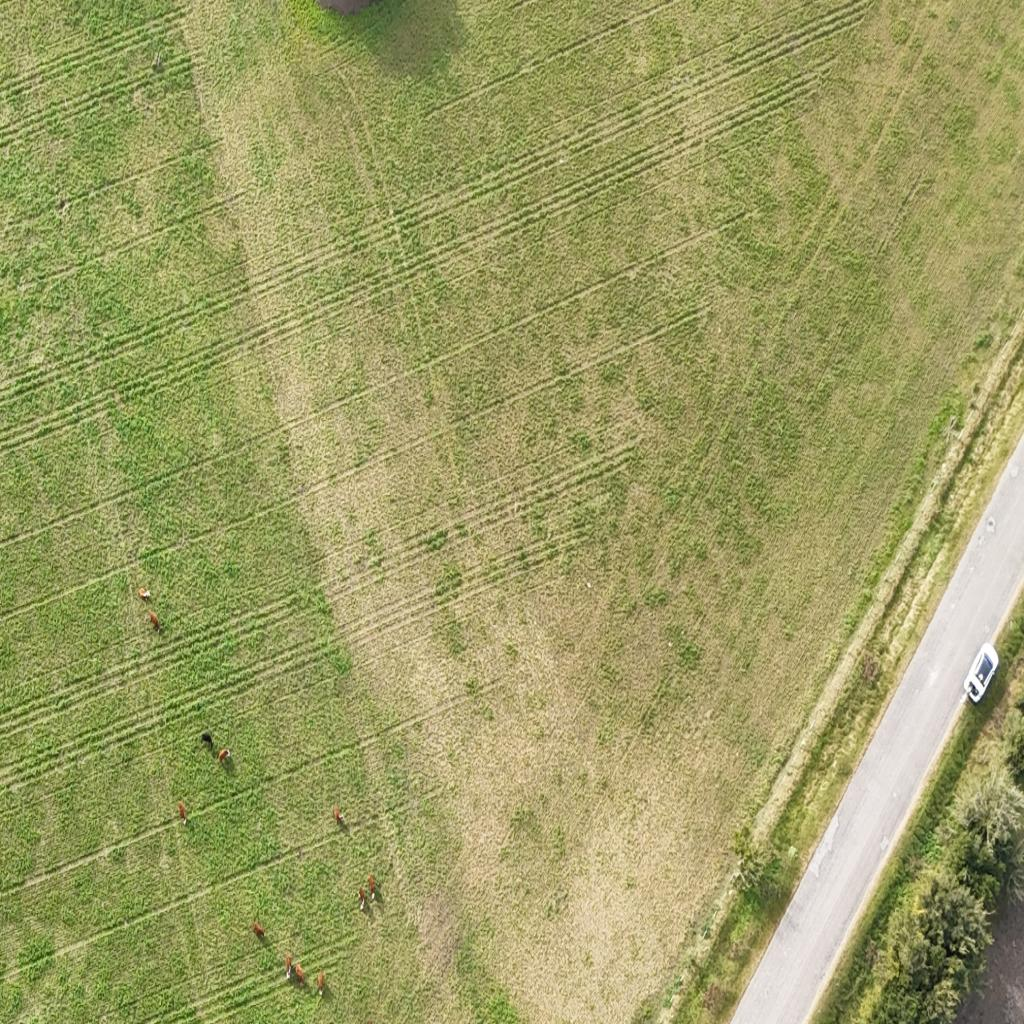cow: (252, 920, 266, 941), (333, 804, 346, 826), (315, 968, 325, 995), (149, 611, 161, 632), (178, 800, 188, 824), (359, 886, 368, 912), (367, 874, 376, 900), (295, 962, 304, 986), (284, 956, 292, 980), (201, 732, 213, 748), (218, 748, 230, 764), (139, 588, 152, 602)
